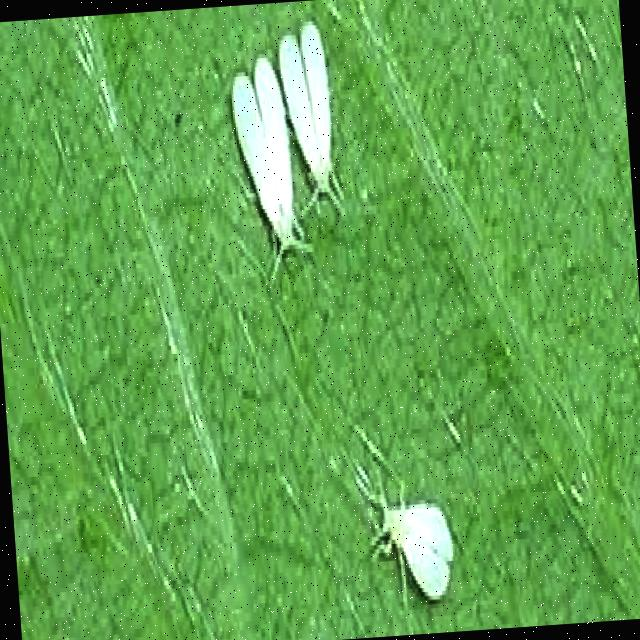whitefly: (203, 8, 367, 308), (342, 402, 465, 624)
